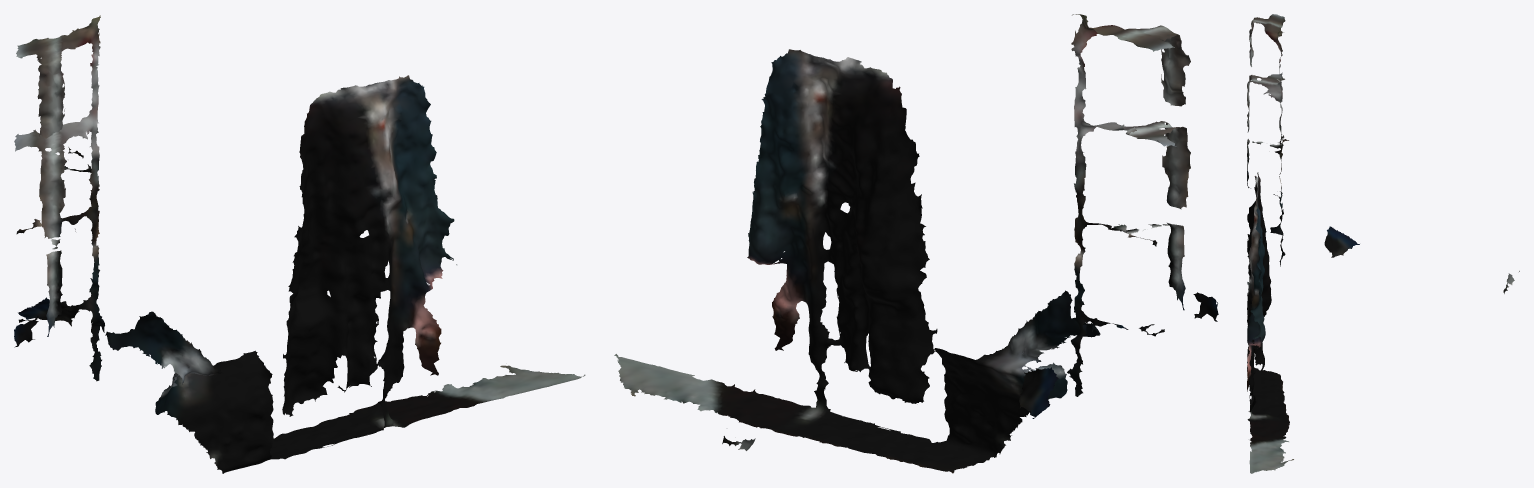
File: color_model_f006_20251226_161543.obj
3 renders of one model, left to right at view 1: azimuth 30°, elevation 25°; view 2: azimuth 150°, elevation 25°; view 3: azimuth 270°, elevation 25°, orthographic. The views are drawn at different scales.
Bounding box in the file's own units: 2.12 × 1.66 × 1.35.
